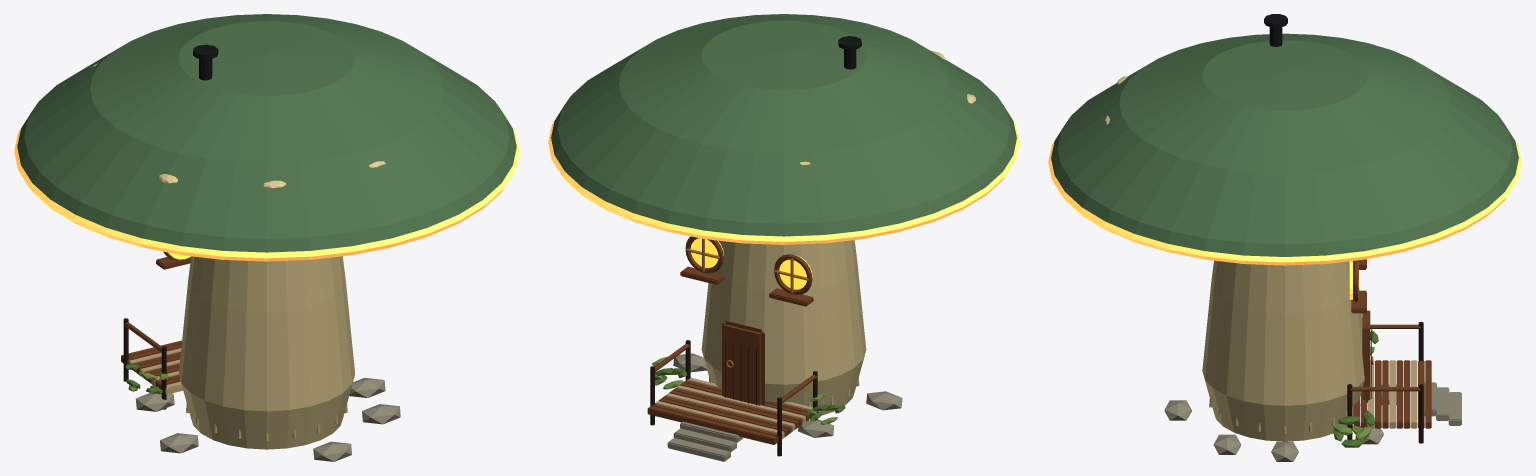
File: mushroom_1.glb
3 renders of one model, left to right at view 1: azimuth 30°, elevation 25°; view 2: azimuth 150°, elevation 25°; view 3: azimuth 270°, elevation 25°, orthographic. The views are drawn at different scales.
Parts seen in each view (by area): view 1: Fernbell home.001Mesh; view 2: Fernbell home.001Mesh; view 3: Fernbell home.001Mesh.
Part boxes in pixels (x1,y1,x2,y2): Fernbell home.001Mesh: (14,14,519,461); Fernbell home.001Mesh: (548,14,1019,461); Fernbell home.001Mesh: (1048,14,1521,461).
Bounding box in the file's own units: 10.6 × 9.01 × 10.6.
